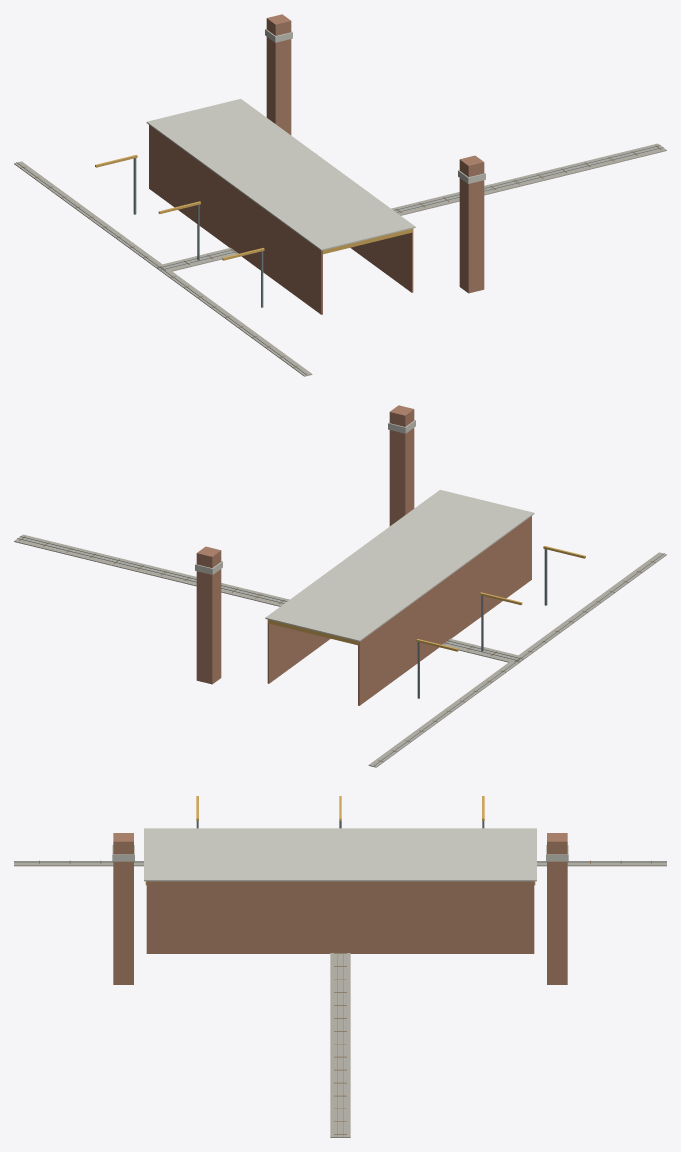
Rendered from valley-8-12.glb.
3 views of the same model, one above another, from view 1: azimuth 30°, elevation 25°; view 2: azimuth 150°, elevation 25°; view 3: azimuth 270°, elevation 25° (orthographic). The views are drawn at different scales.
Visible parts, largest first — view 1: valley-8-12; view 2: valley-8-12; view 3: valley-8-12.
Boxes of the visible parts, x1,y1,x2,y2 form: valley-8-12: (14,14,666,376); valley-8-12: (14,405,666,767); valley-8-12: (14,796,666,1137).
Bounding box in the file's own units: 256 × 62 × 256.
